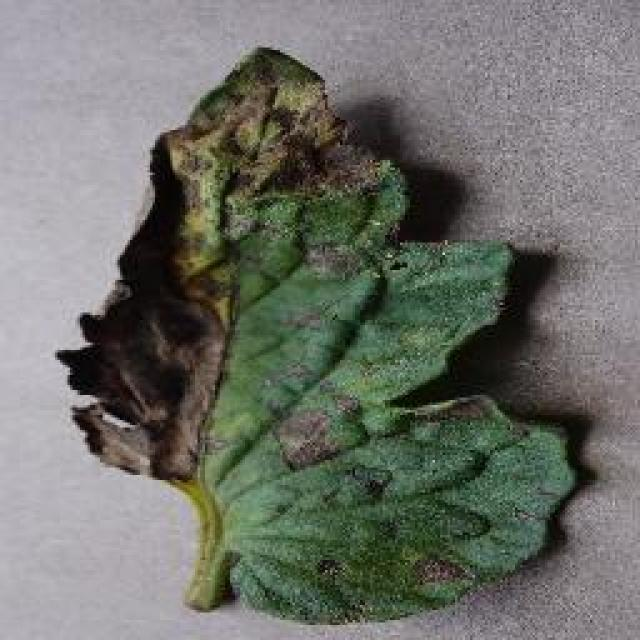Tomato Early blight leaf: (56, 41, 578, 624)
